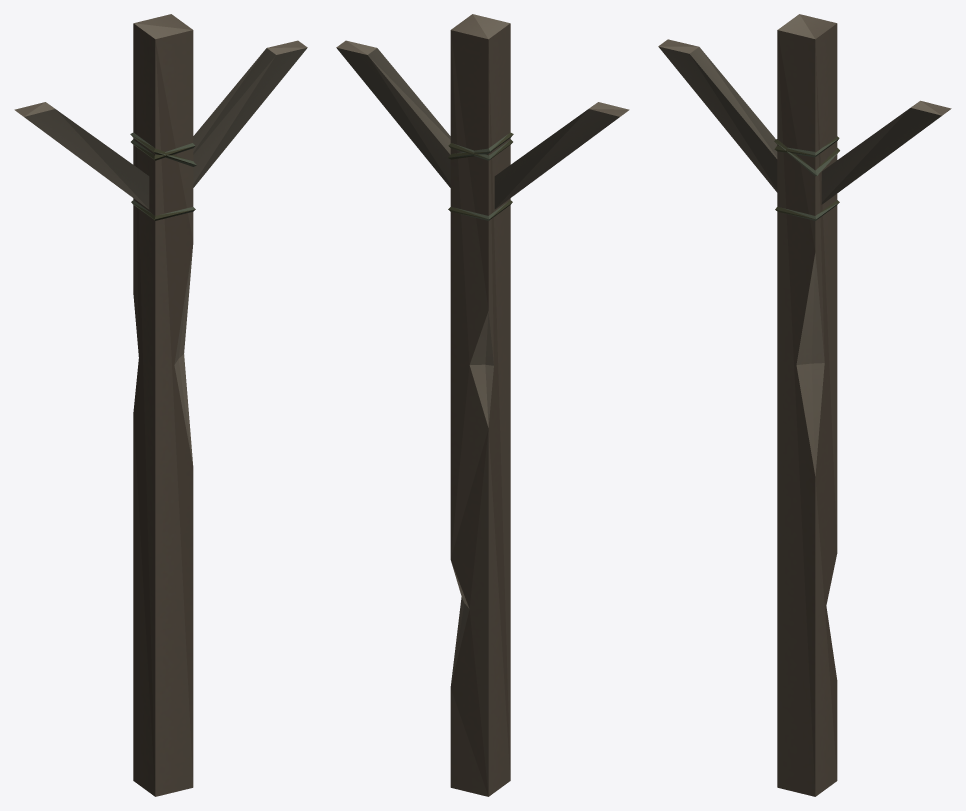
File: Wood_2.fbx
3 views of the same model, side by side, from view 1: azimuth 30°, elevation 25°; view 2: azimuth 150°, elevation 25°; view 3: azimuth 330°, elevation 25° (orthographic).
Visible parts, largest first — view 1: polySurface1409; view 2: polySurface1409; view 3: polySurface1409.
Boxes of the visible parts, <box> form: polySurface1409: <box>14,14,307,796</box>; polySurface1409: <box>336,14,629,796</box>; polySurface1409: <box>658,14,951,796</box>.
Size of the model in its own units: 3.14 by 8.01 by 0.4584.
